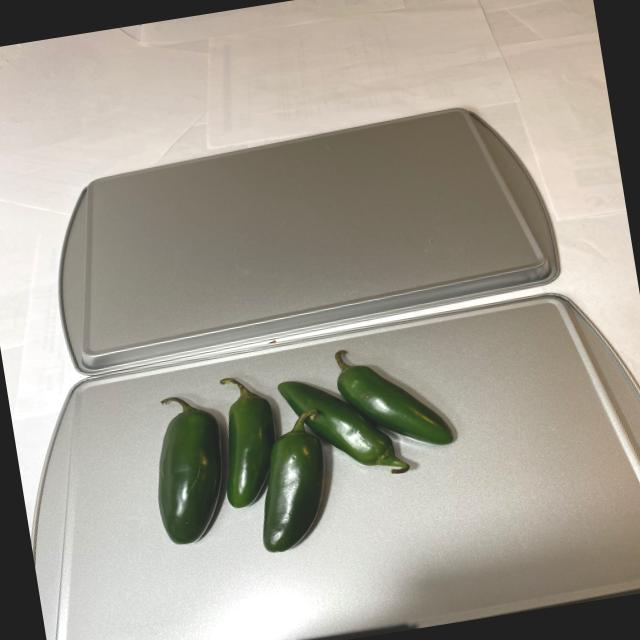chilli: (115, 334, 481, 578)
